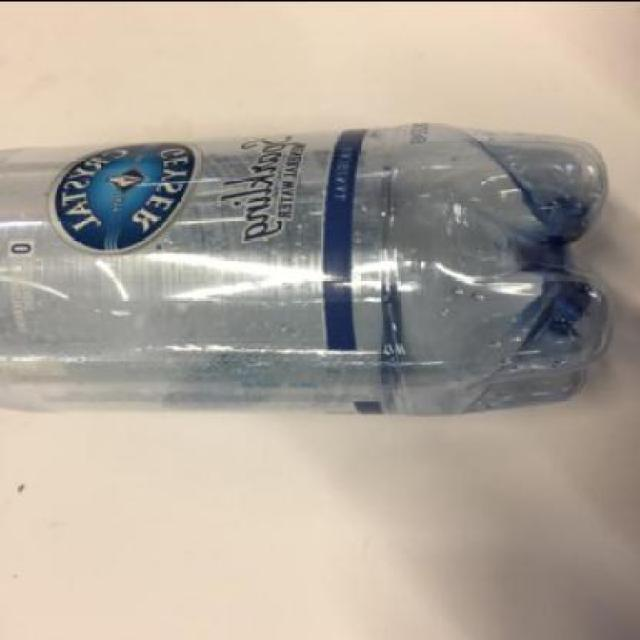PLASTIC: (1, 119, 613, 415)
